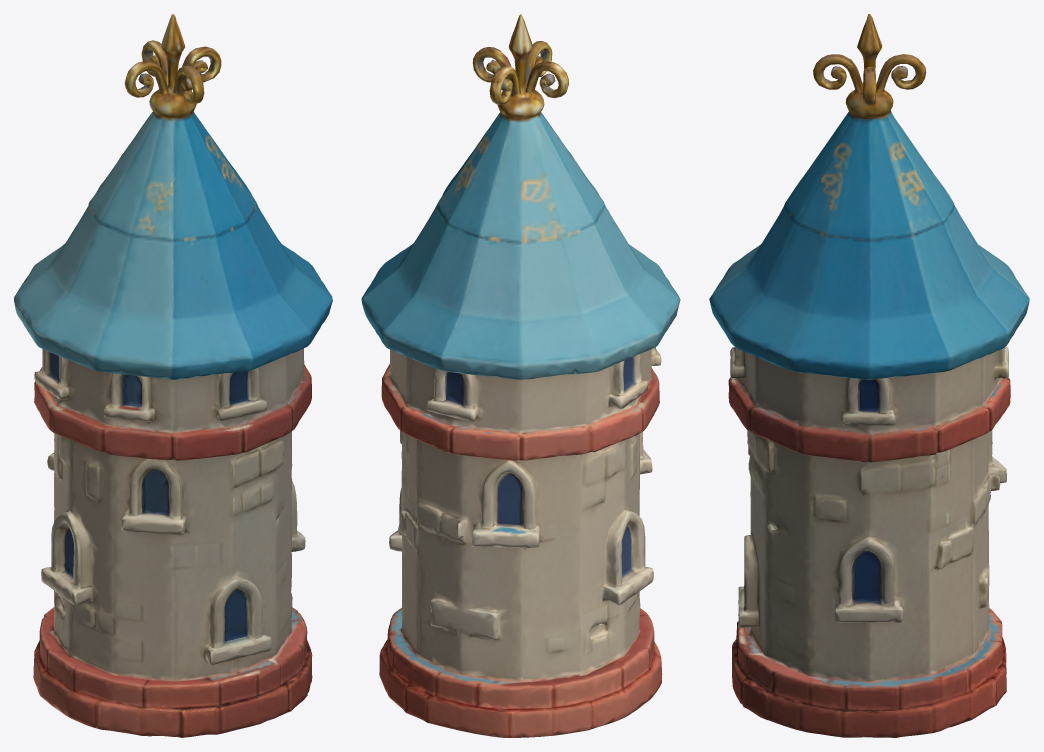
Rendered from 롯데_다리탑.glb.
3 renders of one model, left to right at view 1: azimuth 30°, elevation 25°; view 2: azimuth 150°, elevation 25°; view 3: azimuth 270°, elevation 25°, orthographic.
Visible parts, largest first — view 1: texture_mapping; view 2: texture_mapping; view 3: texture_mapping.
Boxes of the visible parts, x1,y1,x2,y2 form: texture_mapping: [14, 14, 332, 737]; texture_mapping: [361, 14, 680, 737]; texture_mapping: [709, 14, 1029, 737].
Bounding box in the file's own units: 0.4338 × 0.9981 × 0.4344.
Materials: 1 (1 with a texture image).
